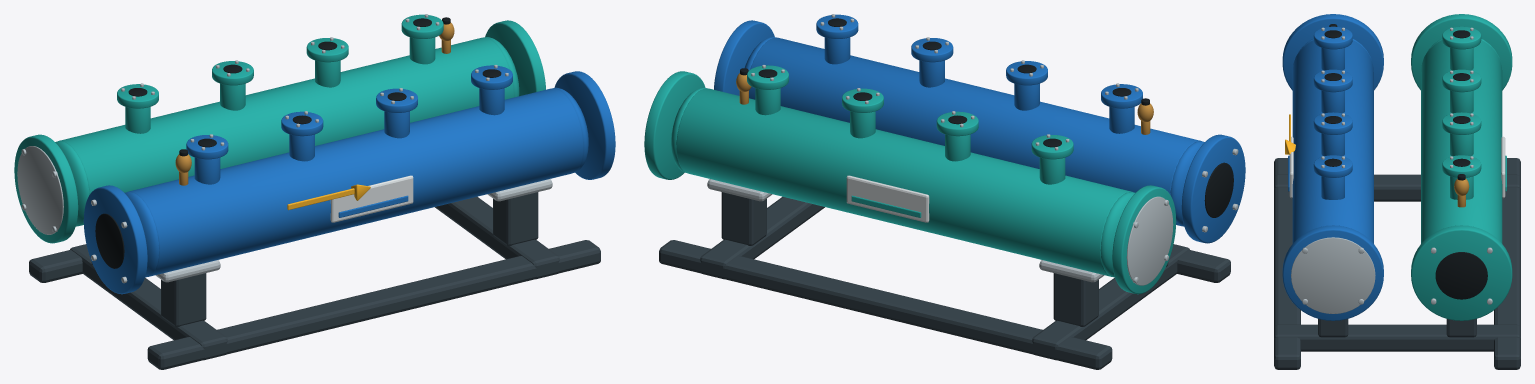
File: supply-return-manifold-four-branch-generic-v1.glb
3 renders of one model, left to right at view 1: azimuth 30°, elevation 25°; view 2: azimuth 150°, elevation 25°; view 3: azimuth 270°, elevation 25°, orthographic. The views are drawn at different scales.
Parts seen in each view (by area): view 1: DISTRIBUTOR_BODY, COLLECTOR_BODY, SKID_LONG_RAIL_F, DISTRIBUTOR_MAIN_INLET_FLANGE, DISTRIBUTOR_BLIND_END_FLANGE, SKID_CROSS_RAIL_L, COLLECTOR_BLIND_END_FACE, SKID_CROSS_RAIL_R, COLLECTOR_BLIND_END_FLANGE, COLLECTOR_MAIN_OUTLET_FLANGE, DISTRIBUTOR_SUPPORT_POST_L, DISTRIBUTOR_SUPPORT_POST_R (+24 smaller); view 2: COLLECTOR_BODY, DISTRIBUTOR_BODY, SKID_LONG_RAIL_R, DISTRIBUTOR_MAIN_INLET_FLANGE, COLLECTOR_MAIN_OUTLET_FLANGE, SKID_CROSS_RAIL_L, COLLECTOR_BLIND_END_FACE, SKID_CROSS_RAIL_R, COLLECTOR_BLIND_END_FLANGE, DISTRIBUTOR_BLIND_END_FLANGE, COLLECTOR_SUPPORT_POST_L, COLLECTOR_SUPPORT_POST_R (+24 smaller); view 3: DISTRIBUTOR_BODY, COLLECTOR_BODY, COLLECTOR_MAIN_OUTLET_FLANGE, SKID_CROSS_RAIL_R, DISTRIBUTOR_BLIND_END_FACE, SKID_LONG_RAIL_F, SKID_LONG_RAIL_R, DISTRIBUTOR_BLIND_END_FLANGE, COLLECTOR_BLIND_END_FLANGE, DISTRIBUTOR_MAIN_INLET_FLANGE, COLLECTOR_MAIN_OUTLET_FACE, SKID_CROSS_RAIL_L (+21 smaller).
Boxes of the visible parts, x1,y1,x2,y2 form: DISTRIBUTOR_BODY: [128, 88, 583, 276]; COLLECTOR_BODY: [58, 37, 513, 225]; SKID_LONG_RAIL_F: [147, 240, 600, 369]; DISTRIBUTOR_MAIN_INLET_FLANGE: [83, 185, 147, 294]; DISTRIBUTOR_BLIND_END_FLANGE: [554, 71, 615, 179]; SKID_CROSS_RAIL_L: [70, 244, 227, 360]; COLLECTOR_BLIND_END_FACE: [17, 146, 63, 234]; SKID_CROSS_RAIL_R: [435, 196, 559, 279]; COLLECTOR_BLIND_END_FLANGE: [14, 134, 78, 243]; COLLECTOR_MAIN_OUTLET_FLANGE: [485, 20, 545, 96]; DISTRIBUTOR_SUPPORT_POST_L: [161, 273, 206, 326]; DISTRIBUTOR_SUPPORT_POST_R: [493, 192, 538, 245]; COLLECTOR_BODY: [676, 88, 1131, 276]; DISTRIBUTOR_BODY: [749, 37, 1201, 225]; SKID_LONG_RAIL_R: [659, 240, 1112, 369]; DISTRIBUTOR_MAIN_INLET_FLANGE: [1181, 134, 1245, 243]; COLLECTOR_MAIN_OUTLET_FLANGE: [644, 71, 705, 179]; SKID_CROSS_RAIL_L: [1032, 244, 1189, 360]; COLLECTOR_BLIND_END_FACE: [1126, 196, 1173, 285]; SKID_CROSS_RAIL_R: [700, 196, 824, 279]; COLLECTOR_BLIND_END_FLANGE: [1112, 185, 1176, 294]; DISTRIBUTOR_BLIND_END_FLANGE: [714, 20, 774, 95]; COLLECTOR_SUPPORT_POST_L: [1053, 273, 1098, 326]; COLLECTOR_SUPPORT_POST_R: [721, 192, 766, 245]; DISTRIBUTOR_BODY: [1292, 40, 1373, 243]; COLLECTOR_BODY: [1421, 40, 1502, 243]; COLLECTOR_MAIN_OUTLET_FLANGE: [1411, 225, 1512, 320]; SKID_CROSS_RAIL_R: [1274, 324, 1520, 351]; DISTRIBUTOR_BLIND_END_FACE: [1291, 237, 1375, 313]; SKID_LONG_RAIL_F: [1274, 158, 1300, 369]; SKID_LONG_RAIL_R: [1494, 158, 1520, 369]; DISTRIBUTOR_BLIND_END_FLANGE: [1282, 225, 1383, 320]; COLLECTOR_BLIND_END_FLANGE: [1411, 14, 1512, 90]; DISTRIBUTOR_MAIN_INLET_FLANGE: [1282, 14, 1383, 90]; COLLECTOR_MAIN_OUTLET_FACE: [1435, 252, 1487, 299]; SKID_CROSS_RAIL_L: [1274, 174, 1520, 201].
Bounding box in the file's own units: 3.06 × 1.14 × 1.46.
